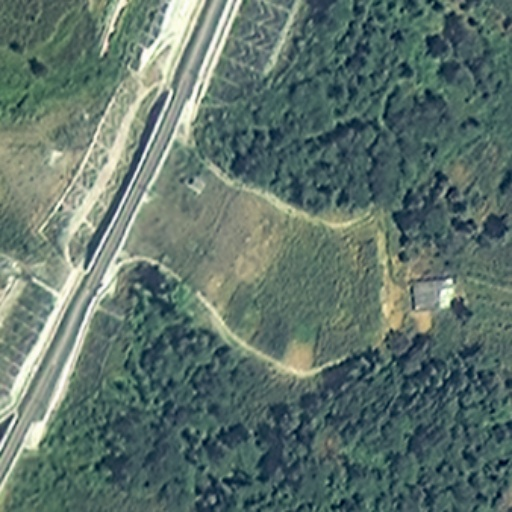landslide: (217, 192, 278, 310)
